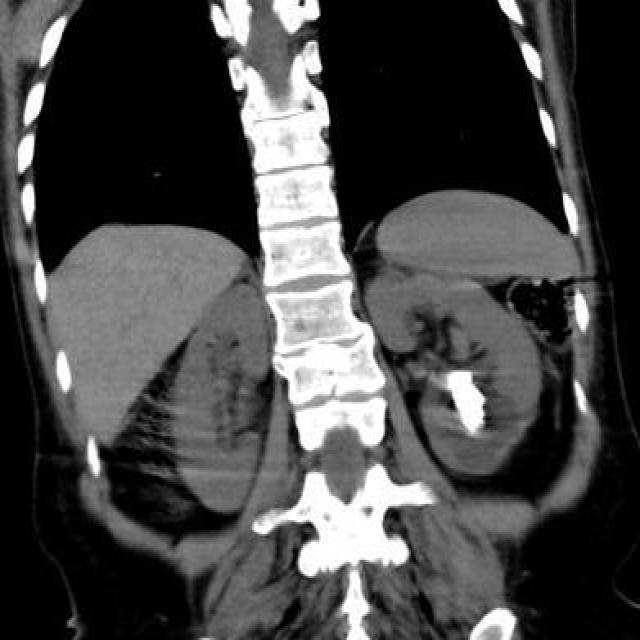Tas_Var: (441, 369, 503, 437)
